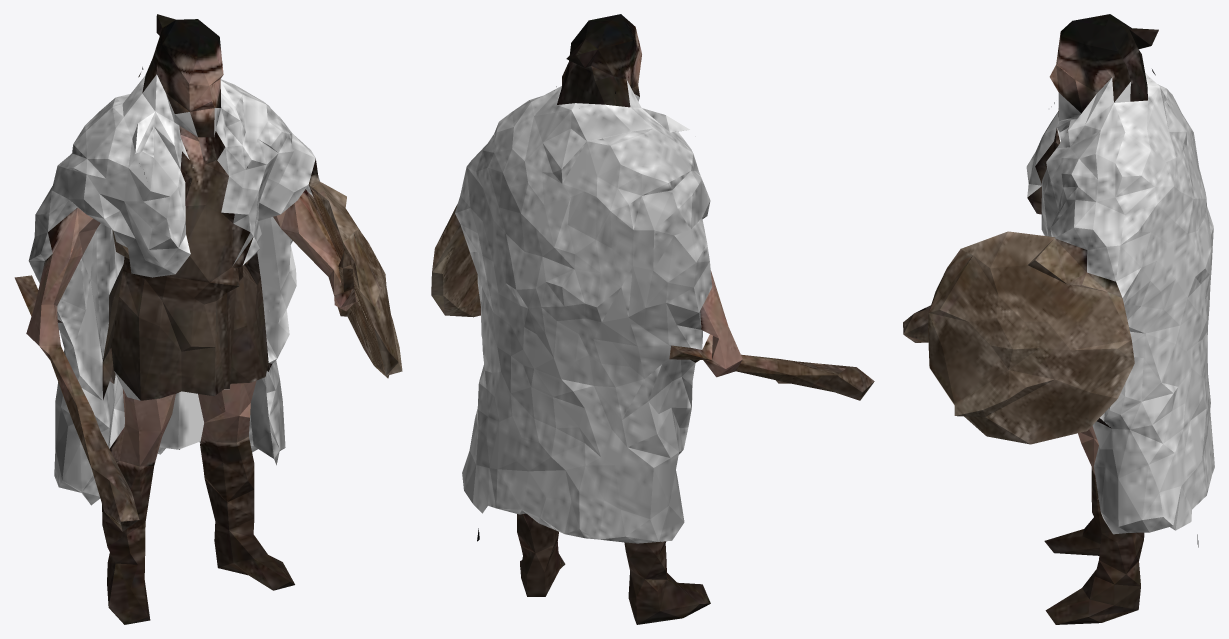
Rendered from warrior.glb.
3 renders of one model, left to right at view 1: azimuth 30°, elevation 25°; view 2: azimuth 150°, elevation 25°; view 3: azimuth 270°, elevation 25°, orthographic. The views are drawn at different scales.
Visible parts, largest first — view 1: warrior; view 2: warrior; view 3: warrior.
Part boxes in pixels (x1,y1,x2,y2): warrior: (14, 14, 402, 624); warrior: (431, 14, 874, 624); warrior: (903, 14, 1214, 624).
Bounding box in the file's own units: 1.11 × 1.8 × 0.8985.
Materials: 2 (2 with a texture image).
